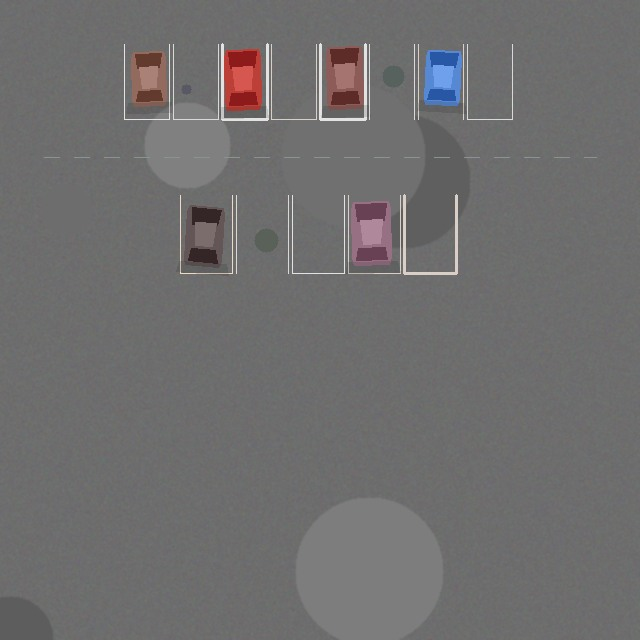space-empty: (236, 195, 288, 273), (292, 195, 344, 273), (404, 195, 456, 273), (173, 44, 218, 119), (271, 44, 316, 119), (369, 44, 414, 119), (467, 44, 512, 119)
space-occupied: (180, 195, 232, 273), (348, 195, 400, 273), (124, 44, 169, 119), (222, 44, 267, 119), (320, 44, 365, 119), (418, 44, 463, 119)
